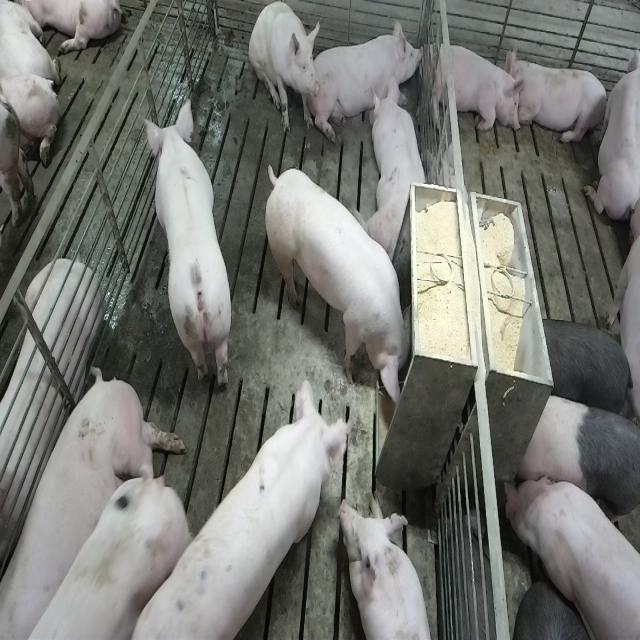Feeding: (270, 163, 420, 414)
Lateral_lying: (0, 259, 103, 587)
Sitting: (249, 2, 319, 136)
Standing: (95, 376, 361, 640), (3, 391, 194, 640), (144, 104, 233, 397), (502, 470, 638, 640), (516, 386, 638, 527), (538, 314, 637, 424)
Sternal_lying: (312, 11, 425, 137), (342, 495, 437, 640), (367, 79, 430, 258), (425, 36, 524, 138), (584, 34, 637, 224), (510, 52, 609, 149)
